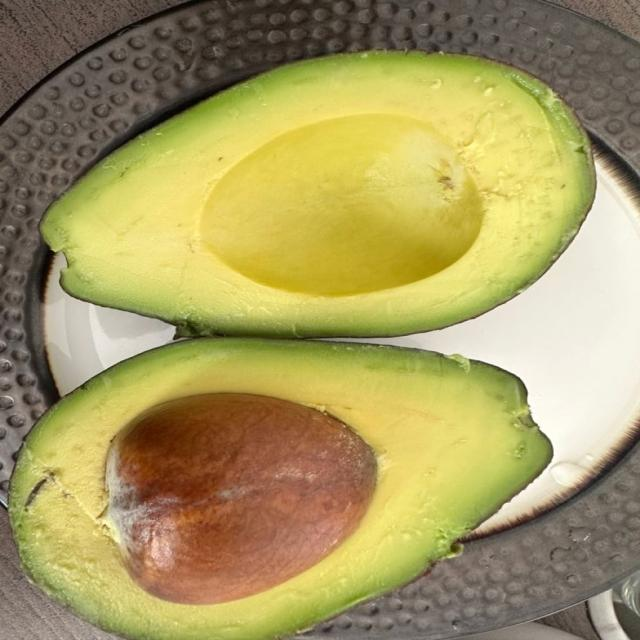avocado: (42, 52, 594, 336), (122, 395, 375, 605)
